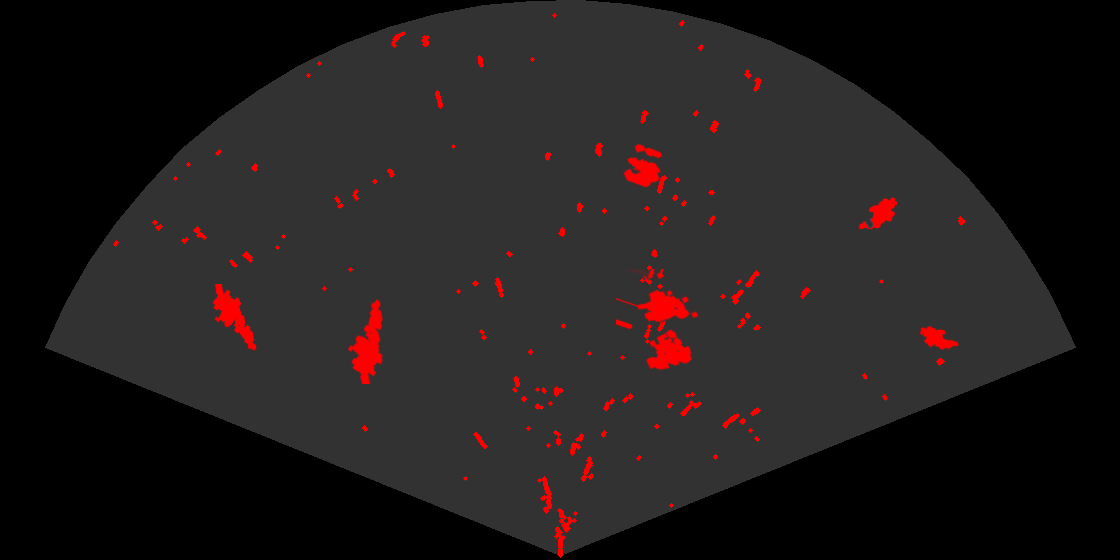AUV: (857, 196, 899, 231), (918, 324, 961, 352)
ball: (622, 142, 664, 189)
cage: (616, 269, 700, 372)
frogman: (346, 298, 385, 384), (211, 284, 258, 352)
